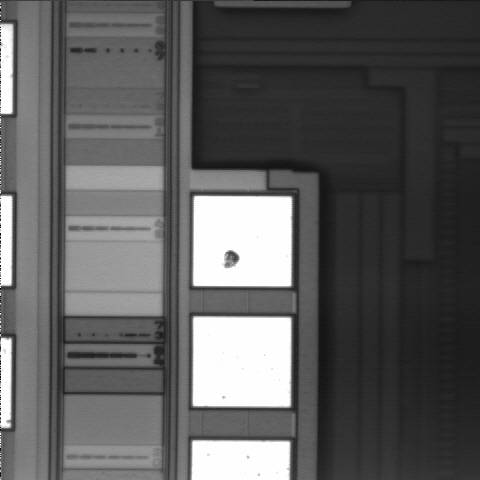pad: (193, 196, 292, 286), (193, 317, 291, 407)
